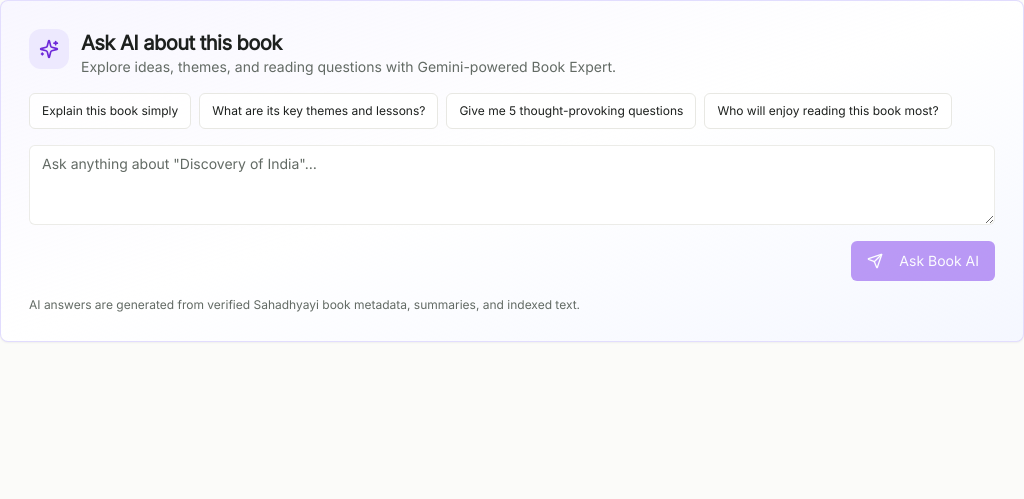
BookAIReader Component › prevents duplicate submissions while request is in flight
Type "First call" into the text box with placeholder "Ask anything about \"Discovery of India\"…".
click(512, 185); type("First call")  # box top-left (29, 145), bottom-right (995, 225)
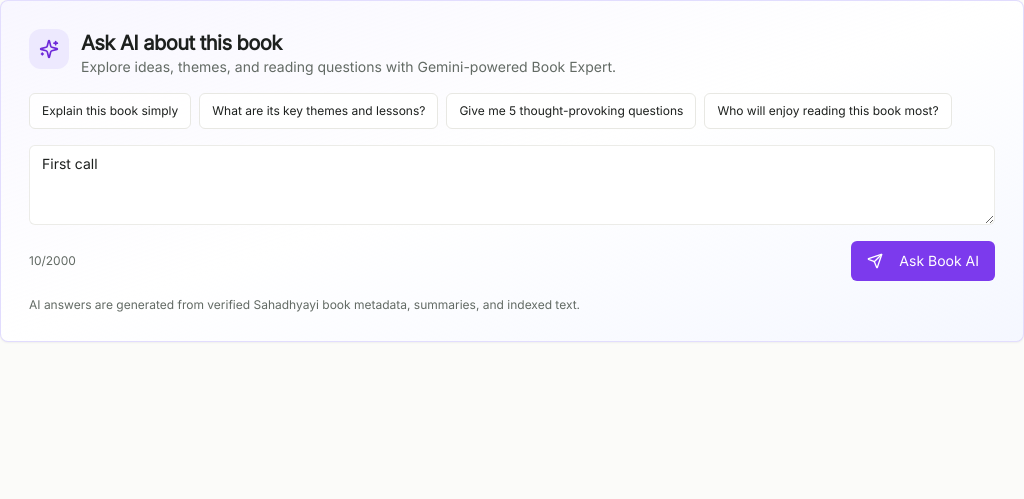
Click the button "Ask Book AI".
click(923, 261)  # box top-left (851, 241), bottom-right (995, 281)
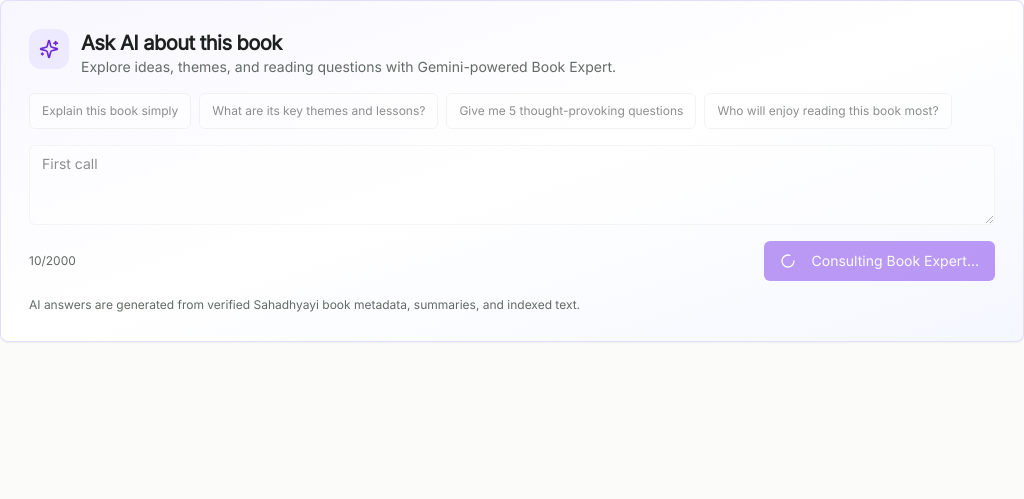
Expected: the button named "Ask Book AI" is disabled
Expected: the text box with placeholder "Ask anything about \"Discovery of India\"…" is disabled, top-left (29, 145), bottom-right (995, 225)
Second click attempt should be blocked
Click the button named "Ask Book AI".
click(879, 261)  # box top-left (764, 241), bottom-right (995, 281)
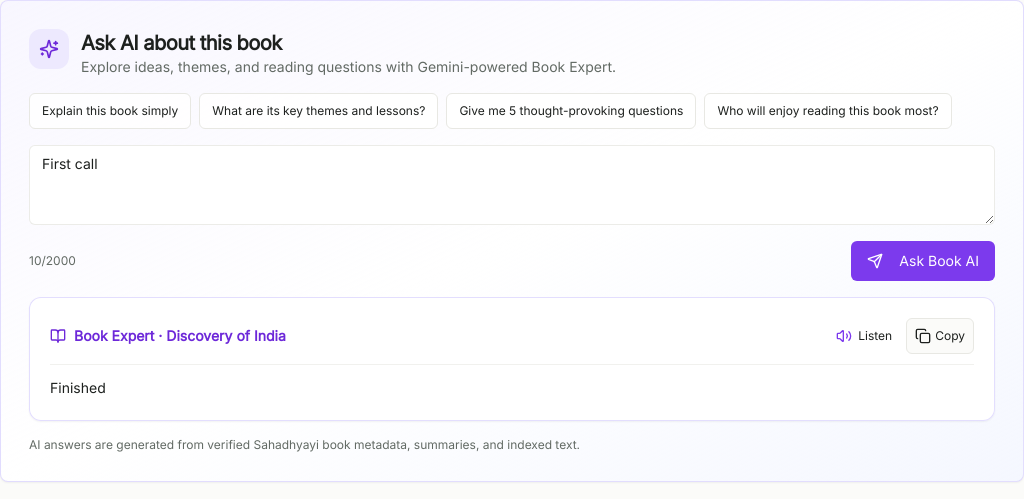
Expected: the text "Finished" is shown, top-left (50, 379), bottom-right (106, 396)
